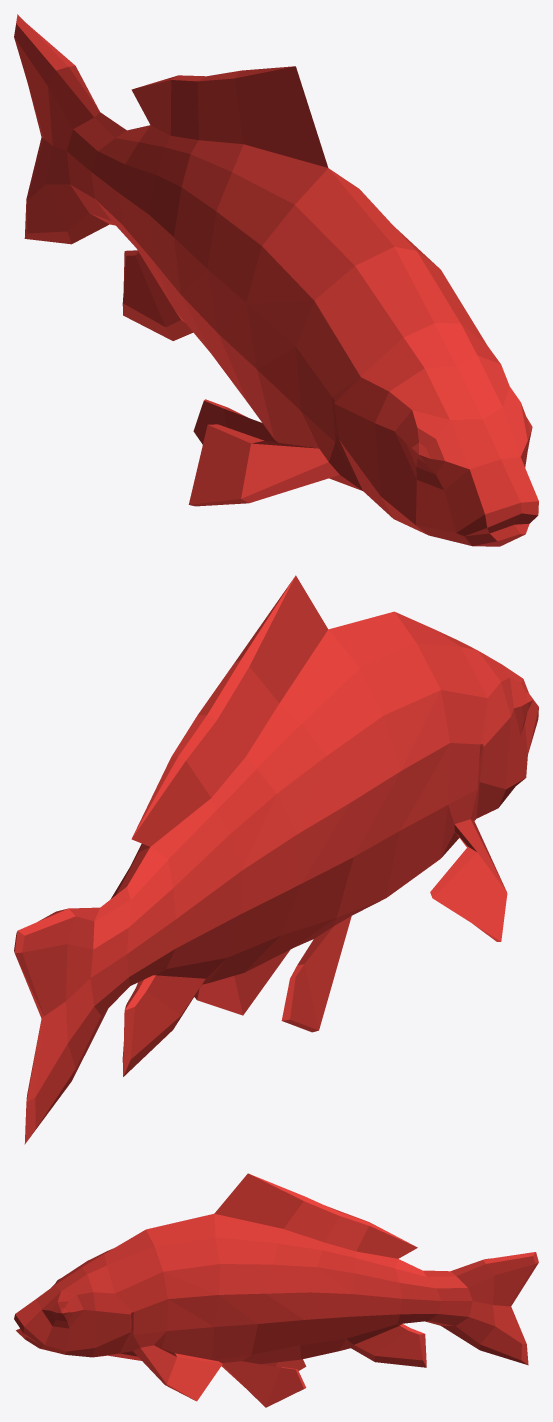
File: SM_Fish_Carp.fbx
3 views of the same model, one above another, from view 1: azimuth 30°, elevation 25°; view 2: azimuth 150°, elevation 25°; view 3: azimuth 270°, elevation 25° (orthographic). The views are drawn at different scales.
Parts seen in each view (by area): view 1: fish-carp; view 2: fish-carp; view 3: fish-carp.
Part boxes in pixels (x1,y1,x2,y2): fish-carp: [14, 14, 538, 546]; fish-carp: [14, 575, 538, 1144]; fish-carp: [14, 1173, 538, 1407].
Bounding box in the file's own units: 0.231 × 0.3075 × 0.649.
